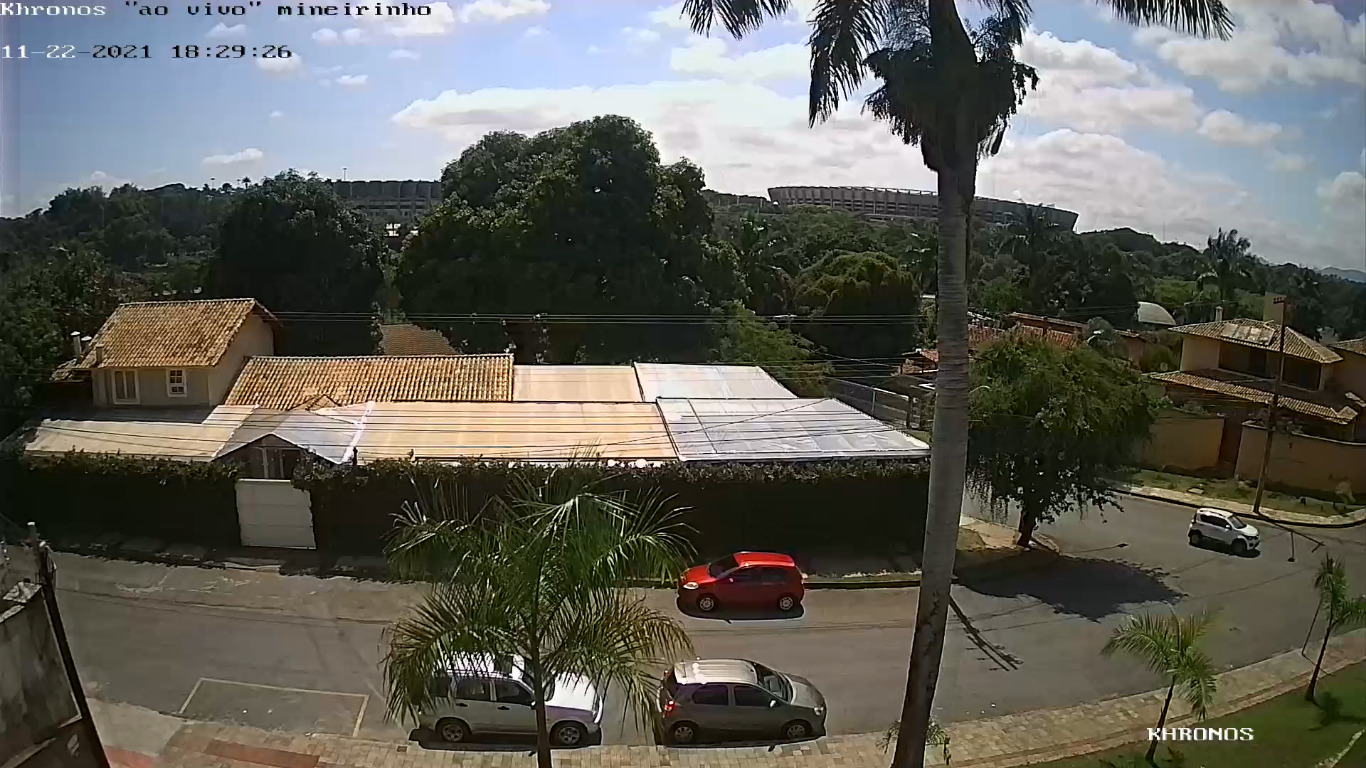car: (418, 647, 605, 747), (653, 657, 829, 744), (676, 548, 805, 615), (1187, 506, 1262, 554)
